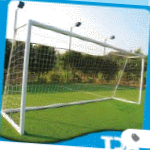goals: (4, 18, 146, 135)
